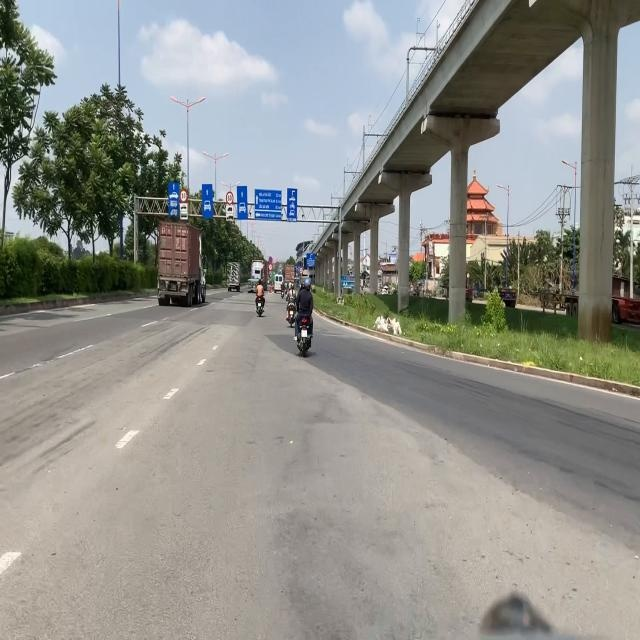bien_hieu_lenh: (226, 191, 234, 205), (180, 189, 187, 203), (268, 256, 272, 264)
